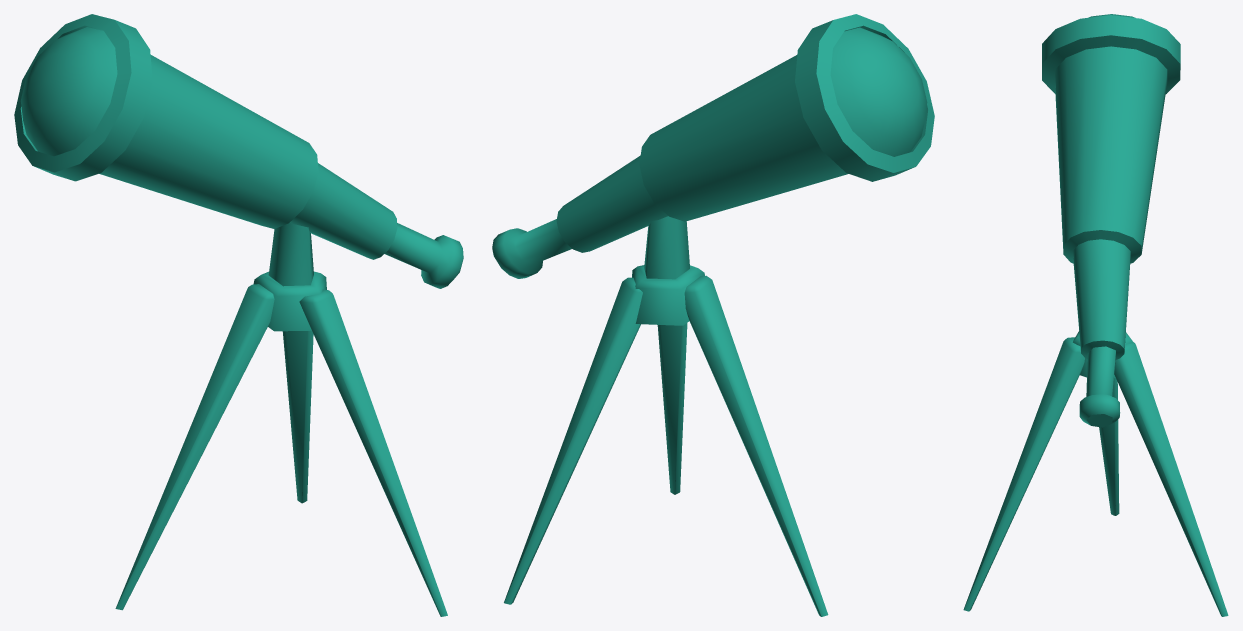
File: TeleScope.FBX
The picture shows the model from 3 angles, left to right: view 1: azimuth 30°, elevation 25°; view 2: azimuth 150°, elevation 25°; view 3: azimuth 270°, elevation 25°; orthographic projection. The views are drawn at different scales.
Parts seen in each view (by area): view 1: Telescope; view 2: Telescope; view 3: Telescope.
Part boxes in pixels (box(x1,y1,x2,y2)): Telescope: box(14, 14, 463, 616); Telescope: box(492, 14, 934, 616); Telescope: box(963, 14, 1228, 616).
Bounding box in the file's own units: 93.6 × 125 × 60.69.
